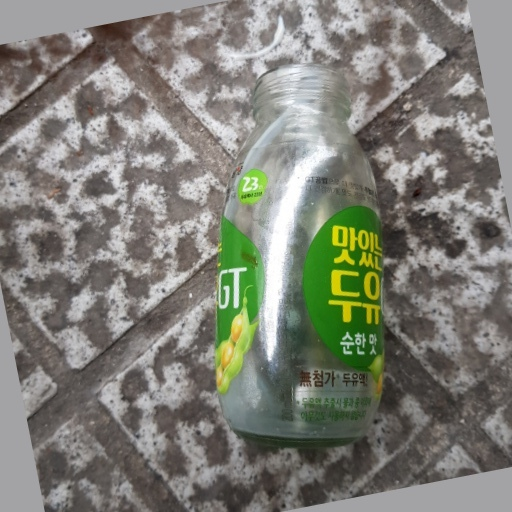Glass_4: (214, 65, 385, 446)
